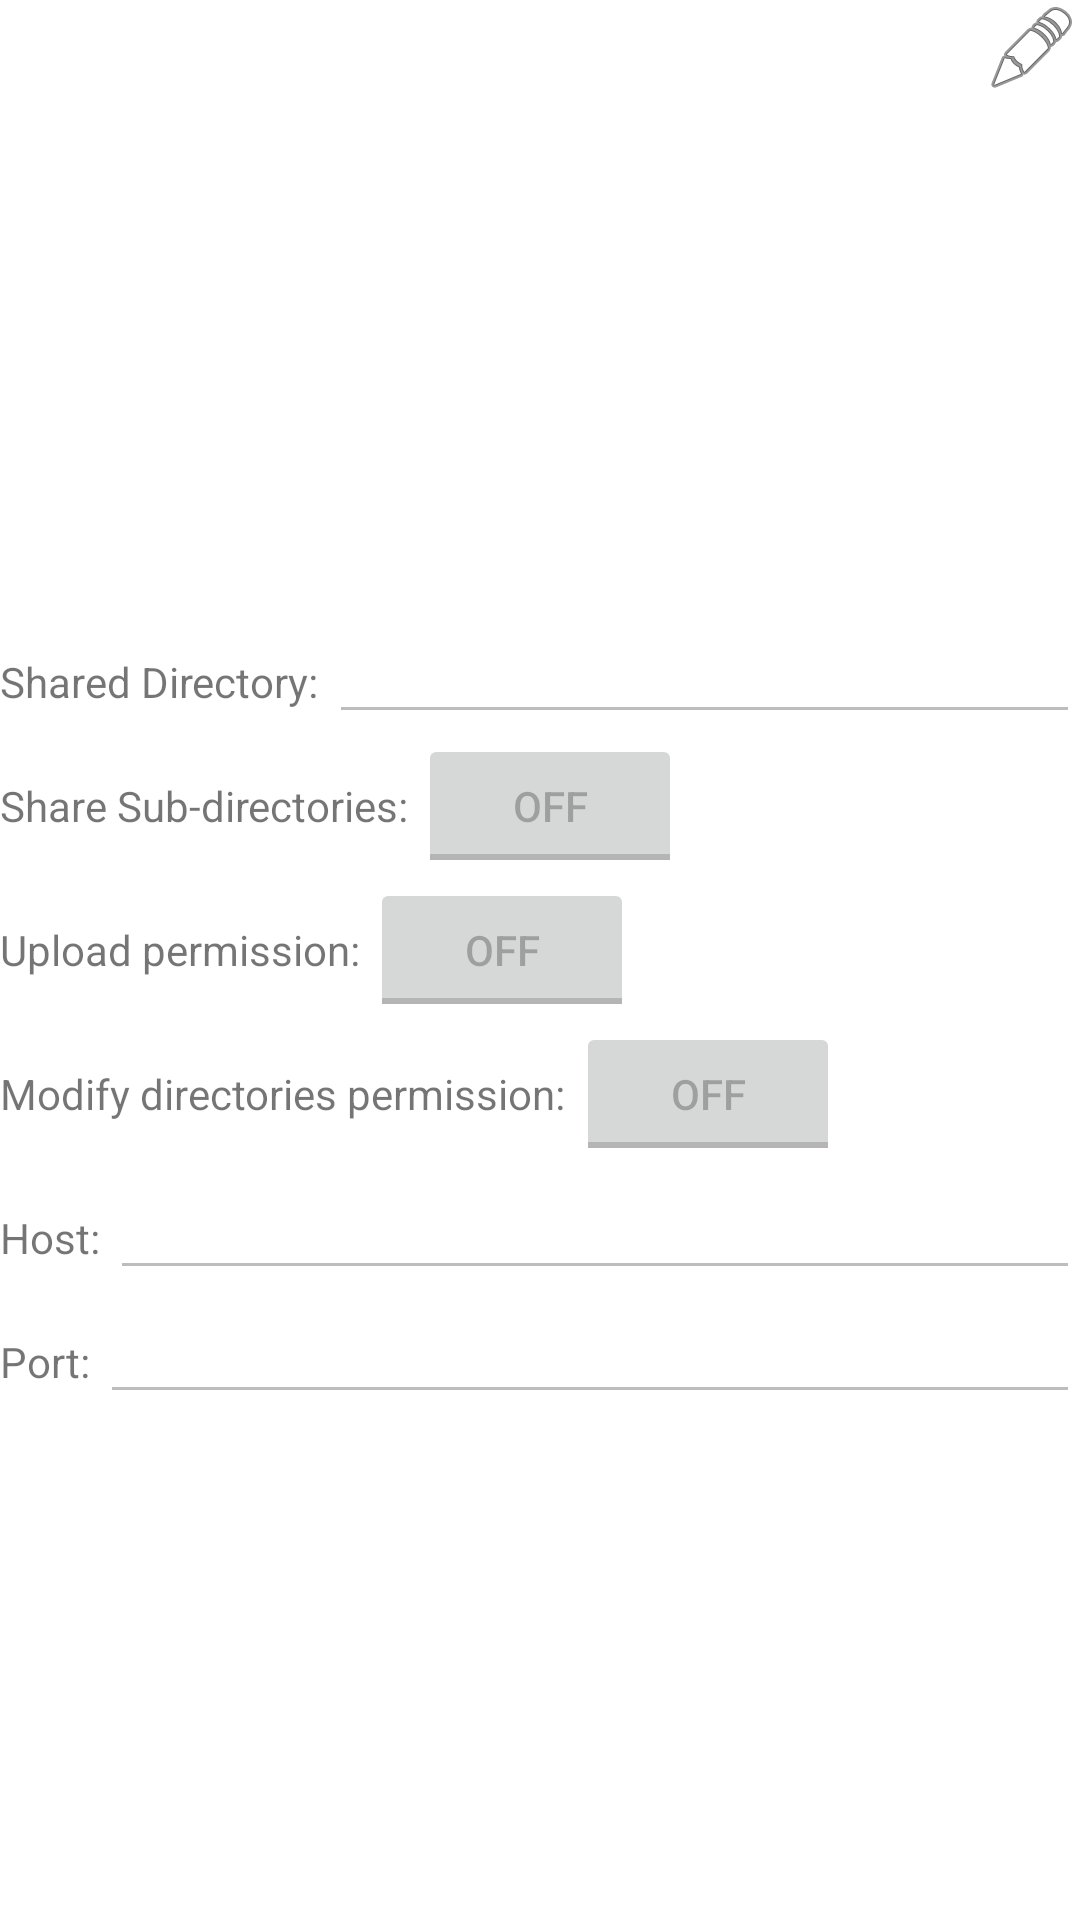

Named icons in this screenshot (1080w x 1920h) and their centers, [x,y]:
edit: [1031,47]
